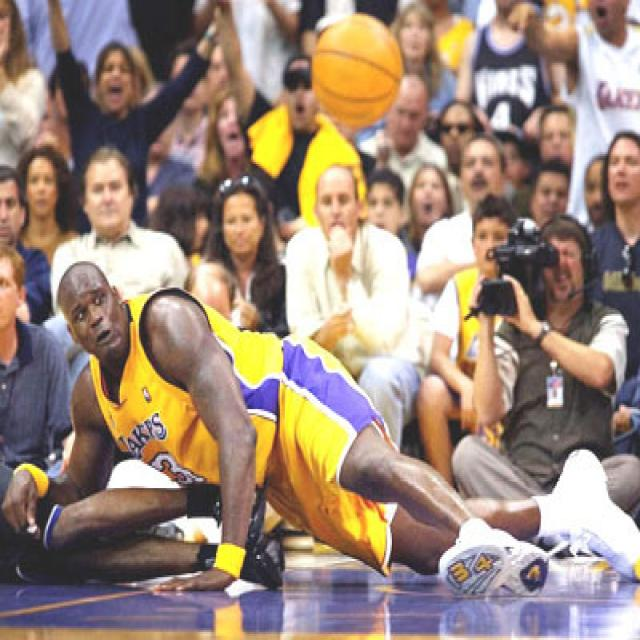10-: (0, 0, 638, 622)
down: (58, 263, 406, 527), (0, 452, 224, 581)
